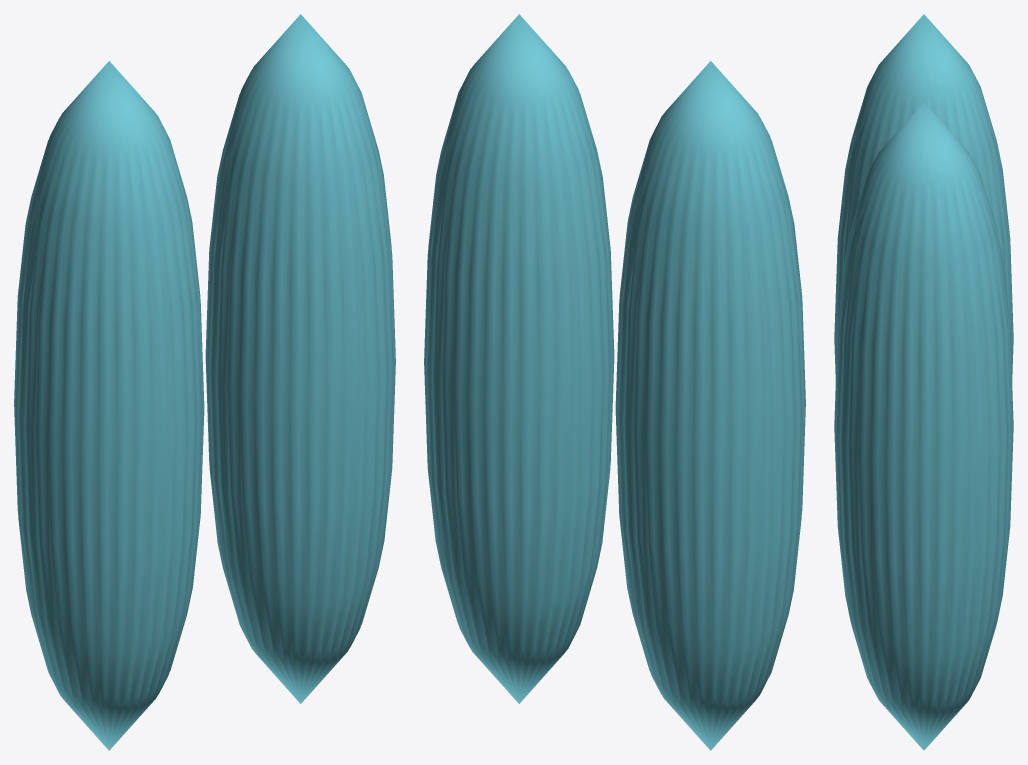
The model's file is outfit_scrubpants.glb.
3 views of the same model, side by side, from view 1: azimuth 30°, elevation 25°; view 2: azimuth 150°, elevation 25°; view 3: azimuth 270°, elevation 25° (orthographic). The views are drawn at different scales.
Visible parts, largest first — view 1: Cylinder, Cylinder.001; view 2: Cylinder, Cylinder.001; view 3: Cylinder.001, Cylinder.
Part boxes in pixels (x1,y1,x2,y2): Cylinder: [14, 61, 204, 750]; Cylinder.001: [205, 14, 395, 703]; Cylinder: [615, 61, 805, 750]; Cylinder.001: [424, 14, 614, 703]; Cylinder.001: [834, 102, 1013, 750]; Cylinder: [834, 14, 1013, 380].
Size of the model in its own units: 0.447 by 0.8264 by 0.207.
